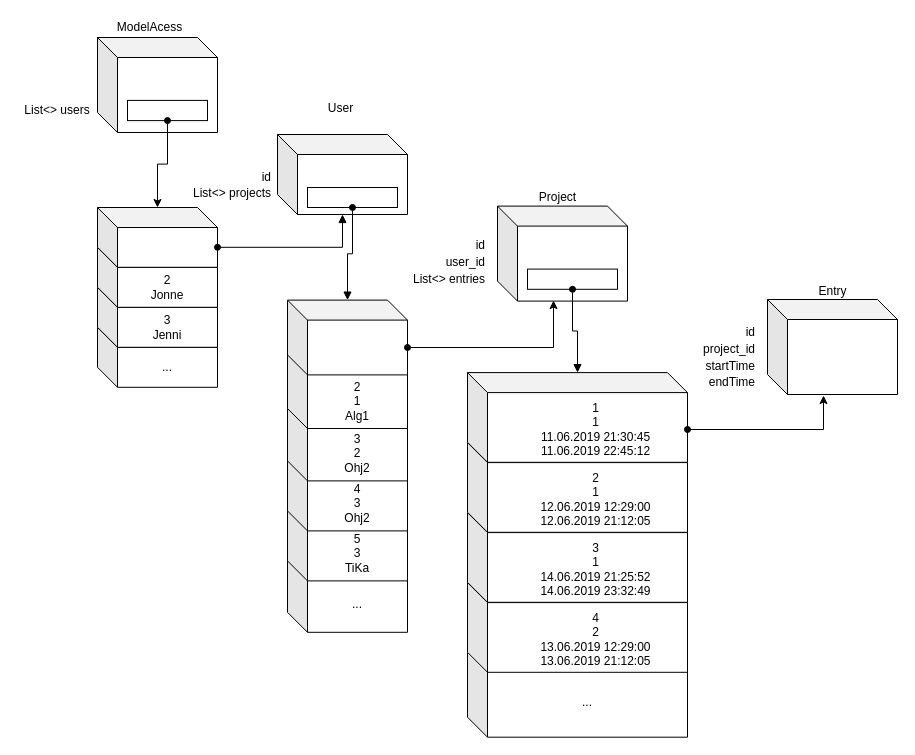
Image size: 915x755. Some labels were removed from this diagram. The centre of each missing label's shape, as x and y in pixels:
1 1 Ohj2: the point at 347,337
1 Janne: the point at 157,236
